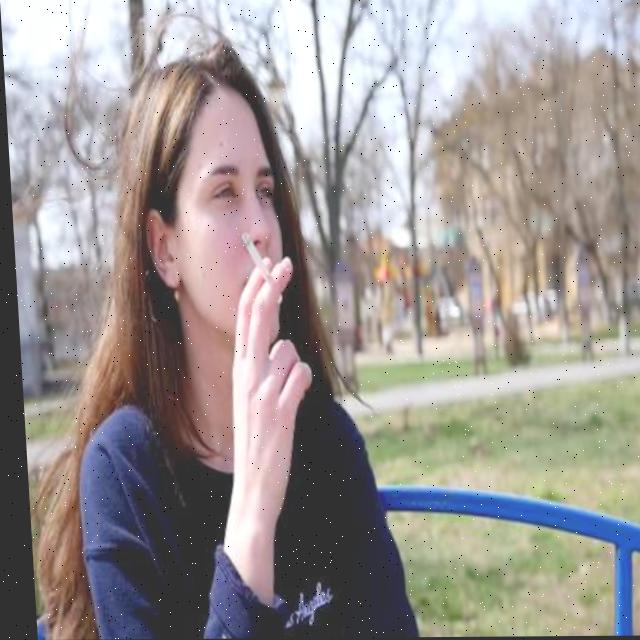cigarette: (239, 232, 278, 307)
